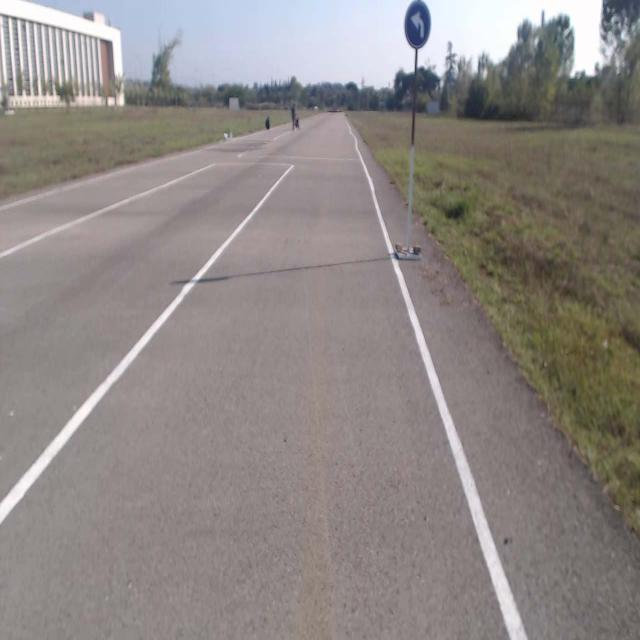sol: (404, 1, 430, 48)
